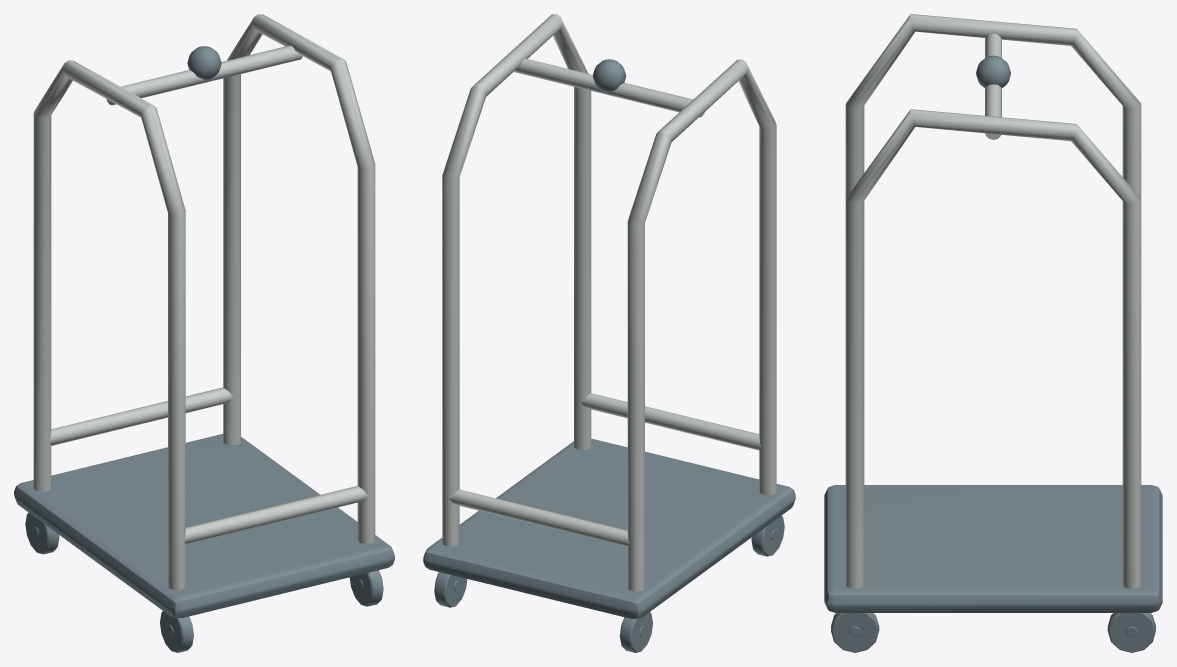
File: luggage-trolley.glb
The picture shows the model from 3 angles, left to right: view 1: azimuth 30°, elevation 25°; view 2: azimuth 150°, elevation 25°; view 3: azimuth 270°, elevation 25°; orthographic projection. The views are drawn at different scales.
Parts seen in each view (by area): view 1: luggage_deck, arched_frame, arched_frame.001, luggage_rail.001, luggage_rail, hanger_rail, trolley_caster_wheel.001, trolley_caster_wheel.003, top_finial, trolley_caster_wheel; view 2: luggage_deck, arched_frame, arched_frame.001, luggage_rail, luggage_rail.001, hanger_rail, trolley_caster_wheel, trolley_caster_wheel.002, top_finial, trolley_caster_wheel.001; view 3: luggage_deck, arched_frame.001, arched_frame, trolley_caster_wheel.002, trolley_caster_wheel.003, hanger_rail, top_finial.
Boxes of the visible parts, x1=… form: luggage_deck: x1=14, y1=434, x2=394, y2=618; arched_frame: x1=33, y1=60, x2=185, y2=590; arched_frame.001: x1=223, y1=14, x2=375, y2=543; luggage_rail.001: x1=183, y1=486, x2=367, y2=544; luggage_rail: x1=49, y1=387, x2=233, y2=445; hanger_rail: x1=106, y1=45, x2=302, y2=105; trolley_caster_wheel.001: x1=160, y1=611, x2=193, y2=652; trolley_caster_wheel.003: x1=349, y1=570, x2=383, y2=606; top_finial: x1=187, y1=46, x2=221, y2=80; trolley_caster_wheel: x1=25, y1=512, x2=59, y2=554; luggage_deck: x1=423, y1=438, x2=795, y2=618; arched_frame: x1=627, y1=59, x2=776, y2=591; arched_frame.001: x1=442, y1=14, x2=591, y2=546; luggage_rail: x1=449, y1=489, x2=629, y2=546; luggage_rail.001: x1=581, y1=393, x2=761, y2=450; hanger_rail: x1=514, y1=58, x2=704, y2=117; trolley_caster_wheel: x1=620, y1=612, x2=652, y2=652; trolley_caster_wheel.002: x1=434, y1=572, x2=467, y2=607; top_finial: x1=592, y1=59, x2=626, y2=92; trolley_caster_wheel.001: x1=751, y1=515, x2=784, y2=556; luggage_deck: x1=824, y1=485, x2=1162, y2=612; arched_frame.001: x1=845, y1=109, x2=1141, y2=588; arched_frame: x1=845, y1=14, x2=1141, y2=198; trolley_caster_wheel.002: x1=1107, y1=613, x2=1155, y2=652; trolley_caster_wheel.003: x1=831, y1=613, x2=879, y2=652; hanger_rail: x1=985, y1=33, x2=1001, y2=139; top_finial: x1=976, y1=55, x2=1010, y2=87.
Size of the model in its own units: 0.83 by 1.87 by 1.05.
